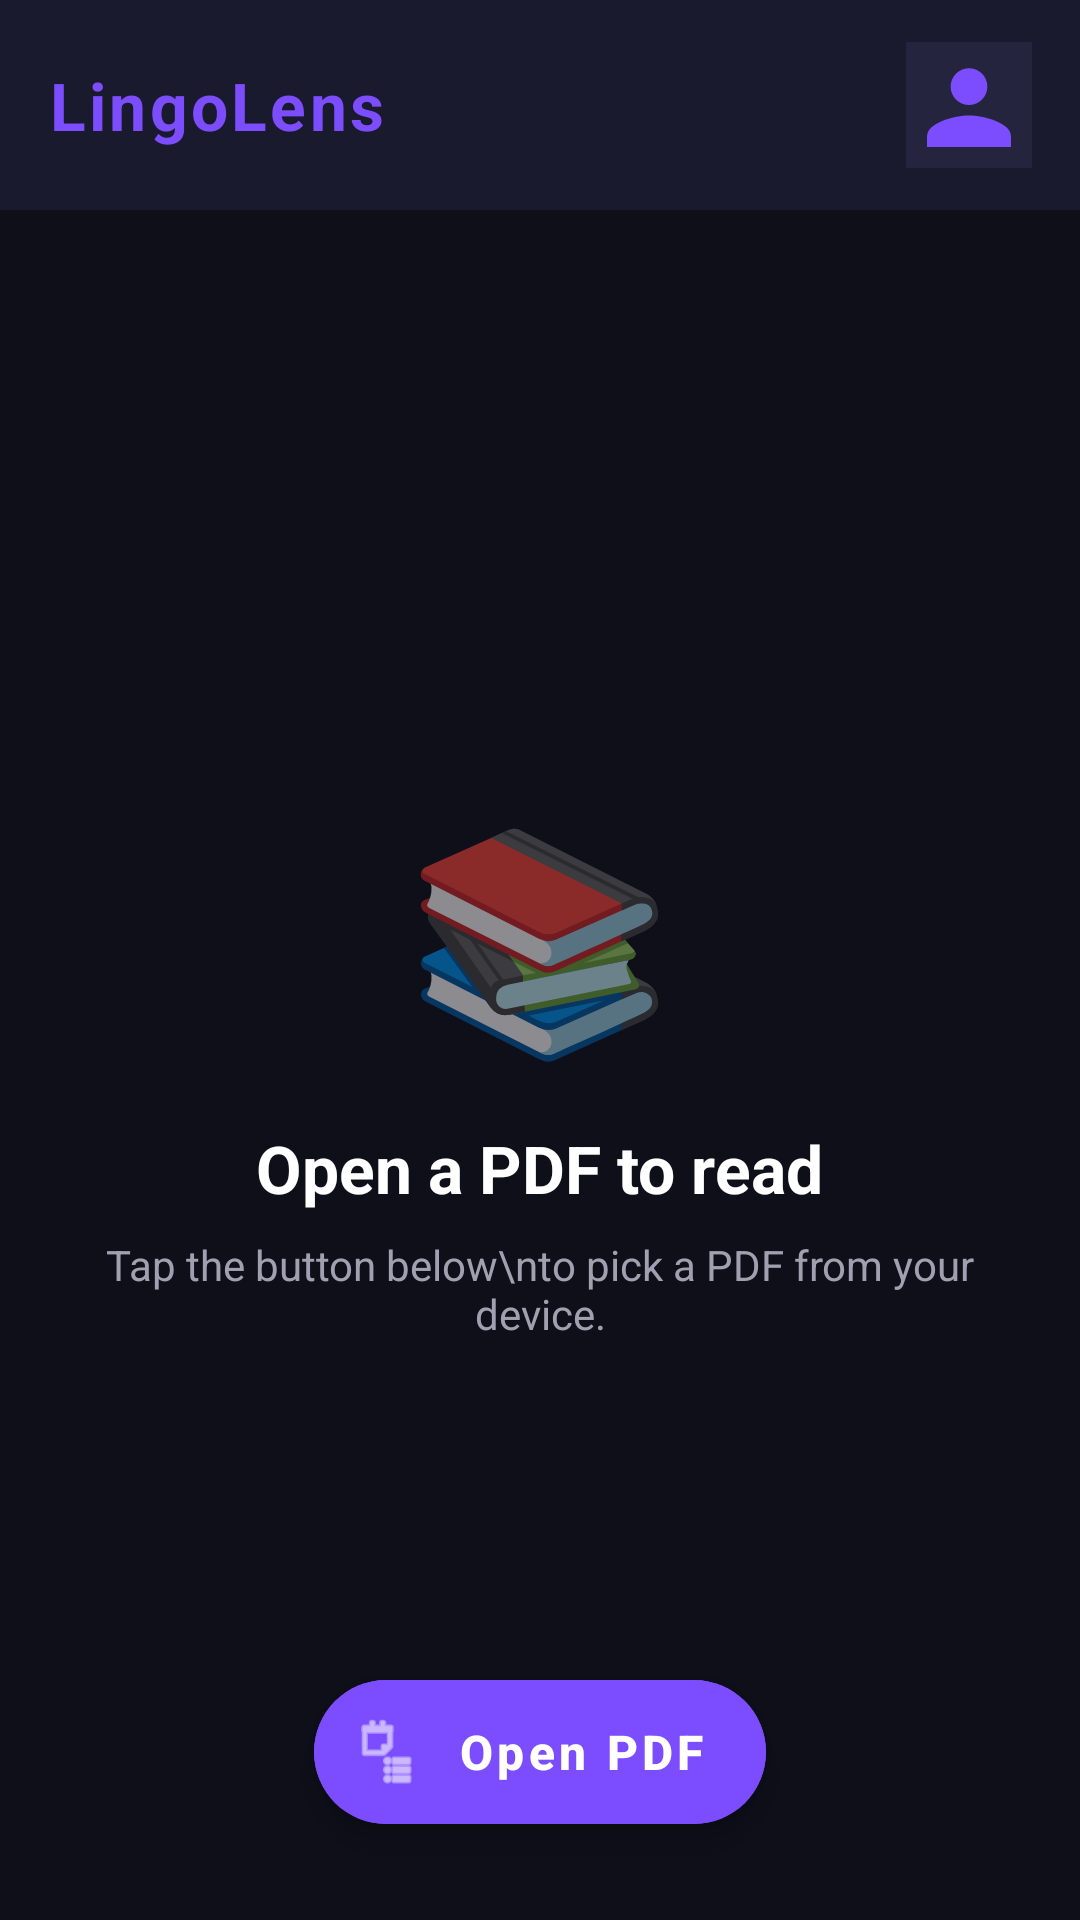

Where to tap for icons on this 1080×1920 app screen, as [x,y]:
profile: [969,107]
